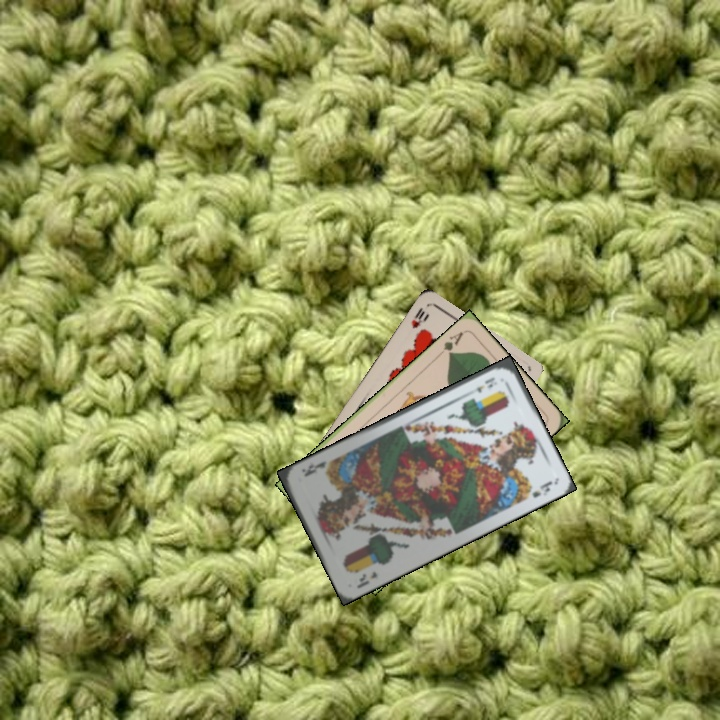EK: (465, 373, 498, 397), (352, 567, 380, 591)
GA: (434, 328, 466, 359)
H10: (407, 303, 431, 331)
